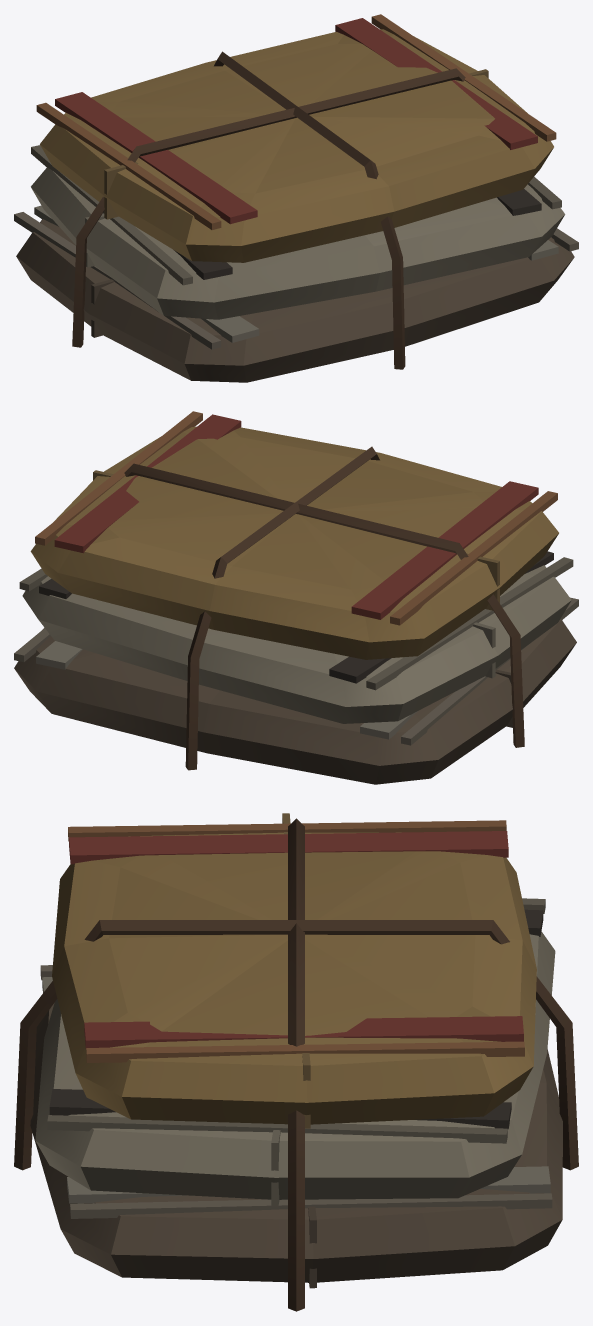
Rendered from ponchos_doblados.glb.
The picture shows the model from 3 angles, top to bottom: view 1: azimuth 30°, elevation 25°; view 2: azimuth 150°, elevation 25°; view 3: azimuth 270°, elevation 25°; orthographic projection. The views are drawn at different scales.
Parts seen in each view (by area): view 1: PonchosDoblados; view 2: PonchosDoblados; view 3: PonchosDoblados.
Boxes of the visible parts, bbox=[...] form: PonchosDoblados: bbox=[14, 14, 578, 382]; PonchosDoblados: bbox=[14, 411, 578, 784]; PonchosDoblados: bbox=[14, 813, 578, 1311].
Size of the model in its own units: 0.564 by 0.2241 by 0.464.
